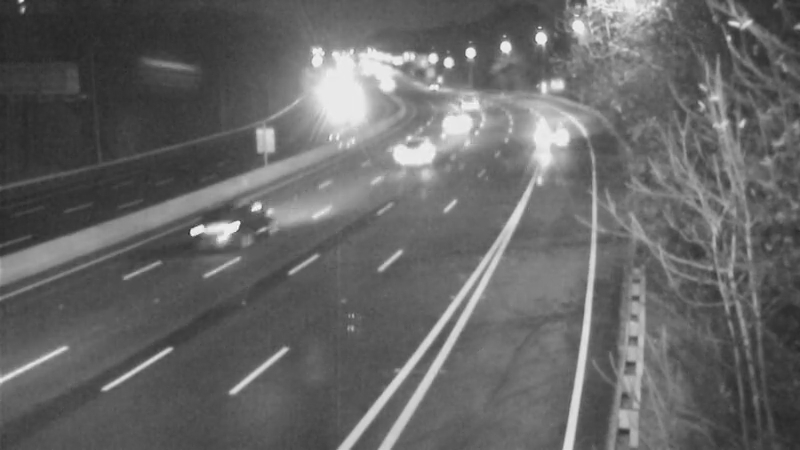vehicle: (182, 185, 262, 265), (439, 78, 489, 128), (522, 101, 572, 151), (436, 95, 486, 145), (390, 120, 440, 170)
